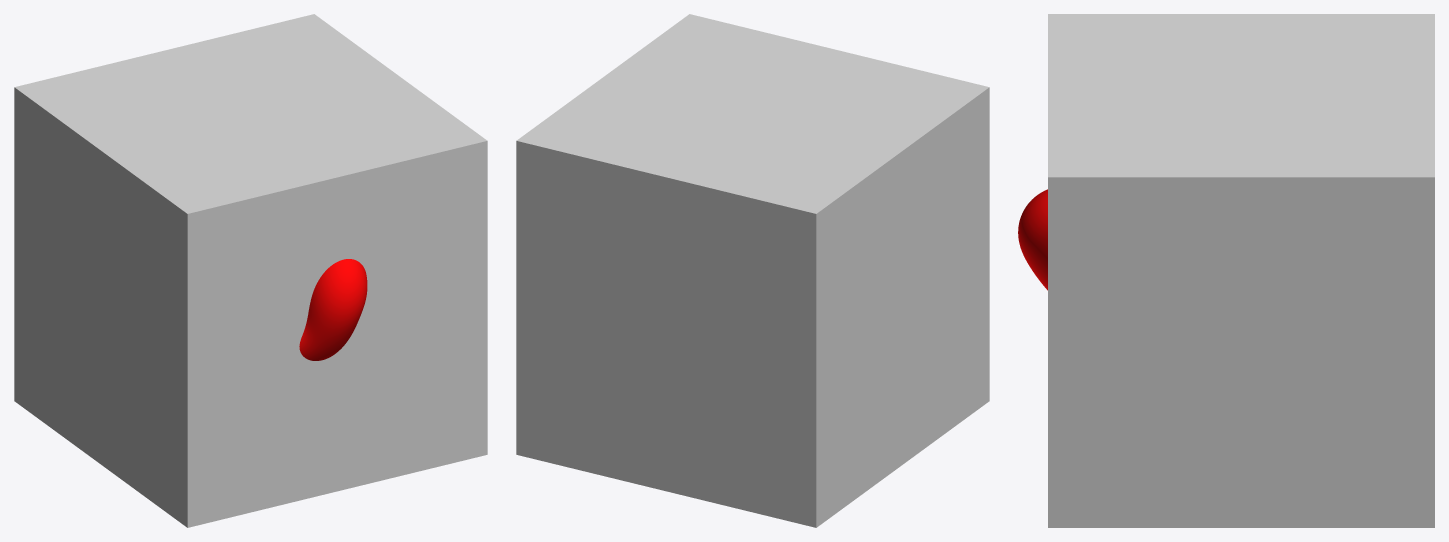
File: glacon_tulipe.gltf
3 renders of one model, left to right at view 1: azimuth 30°, elevation 25°; view 2: azimuth 150°, elevation 25°; view 3: azimuth 270°, elevation 25°, orthographic. The views are drawn at different scales.
Parts seen in each view (by area): view 1: Cube, model 10; view 2: Cube; view 3: Cube, model 10.
Part boxes in pixels (x1,y1,x2,y2): Cube: [14, 14, 487, 527]; model 10: [299, 259, 367, 360]; Cube: [516, 14, 989, 527]; Cube: [1048, 14, 1434, 527]; model 10: [1018, 189, 1047, 290].
Bounding box in the file's own units: 0.2 × 0.2 × 0.2155.
